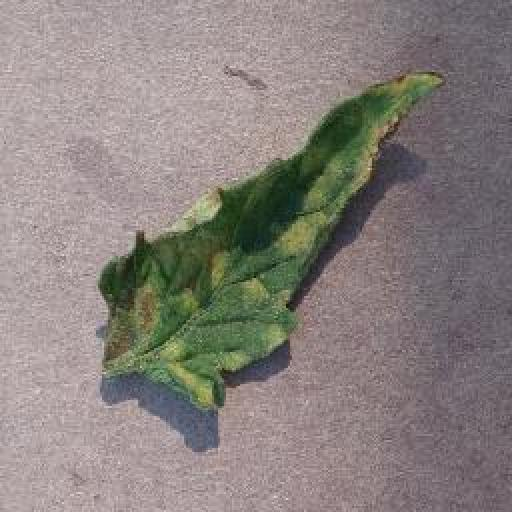Leaf Mold: (98, 65, 445, 412)
